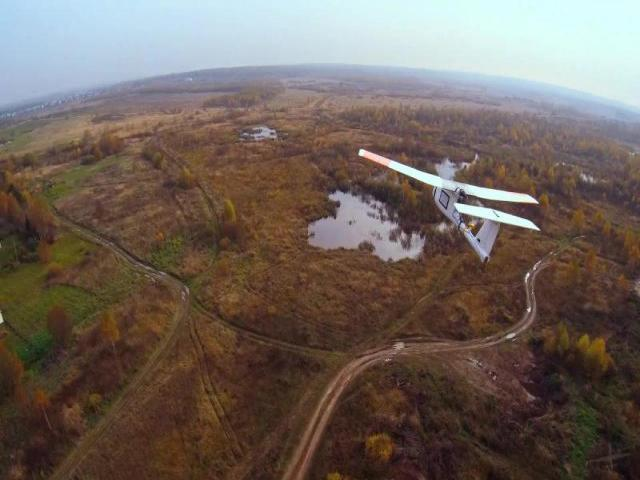hedef: (359, 140, 546, 274)
